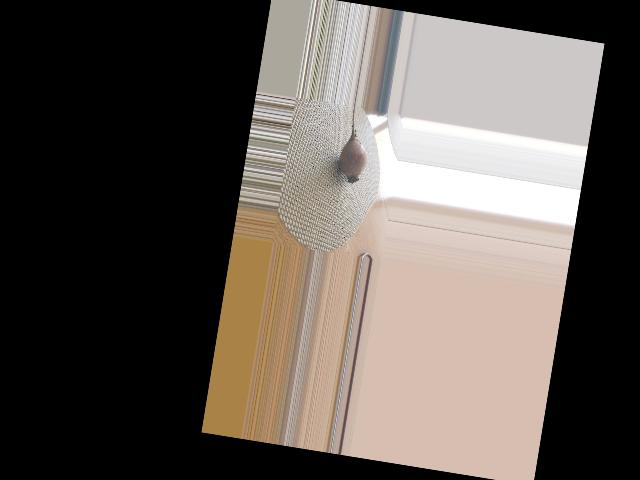beet: (336, 106, 375, 185)
